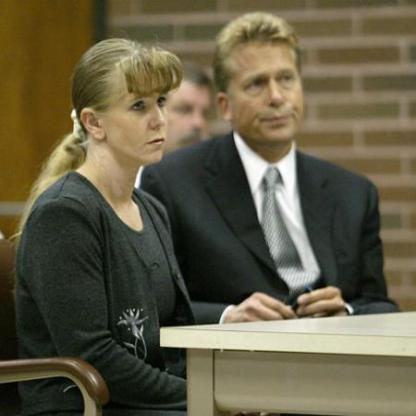face: (225, 17, 306, 145), (103, 47, 188, 167), (158, 70, 222, 169)
